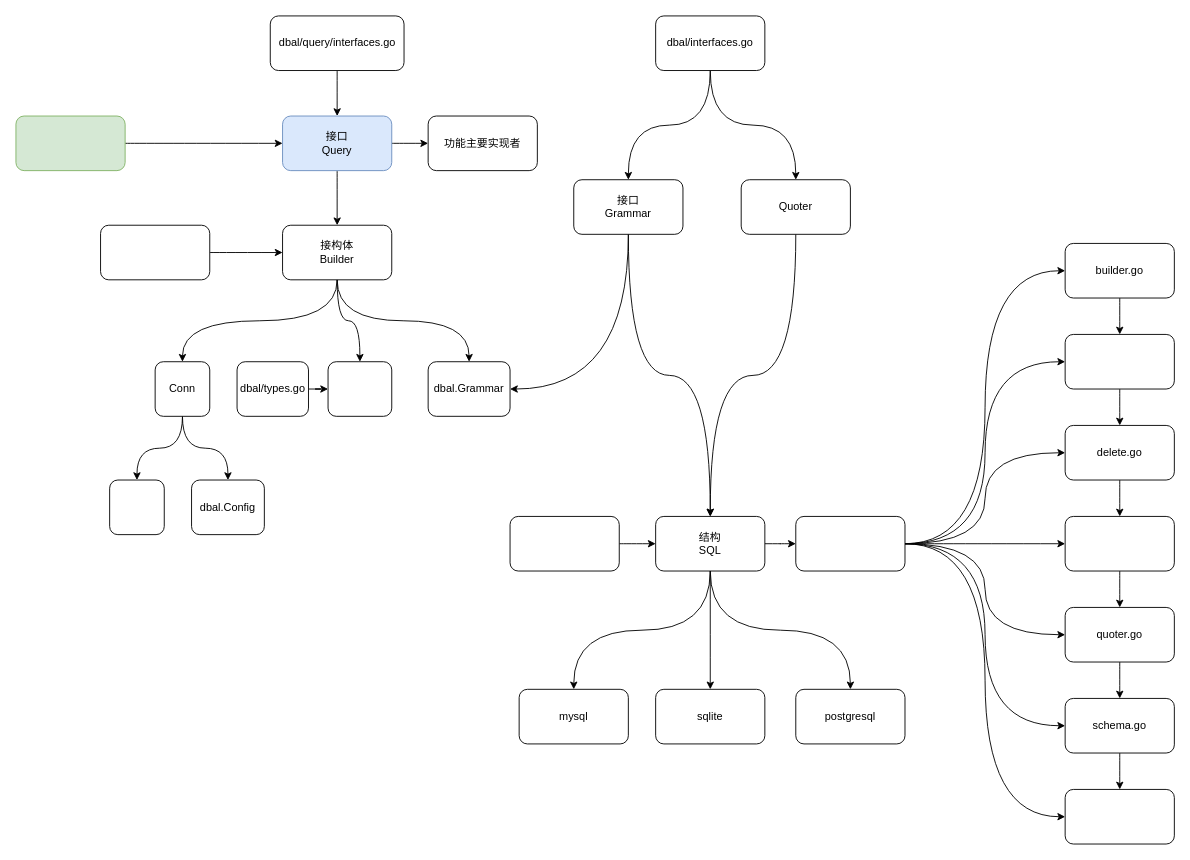
The diagram is 1190 pixels wide and 860 high, and some of its shapes have lost their labels. Each missing label, with the centre of its shape:
"compile.go" belongs at (1119,361).
"dbal/query/types.go" belongs at (155,252).
"grammar/sql/sql.go" belongs at (564,543).
"insert.go" belongs at (1119,543).
"sqlx.DB" belongs at (136,507).
"update.go" belongs at (1119,816).
"外部调用" belongs at (70,143).
"接口体 dbal.Query" belongs at (359,388).
"默认实现" belongs at (850,543).
